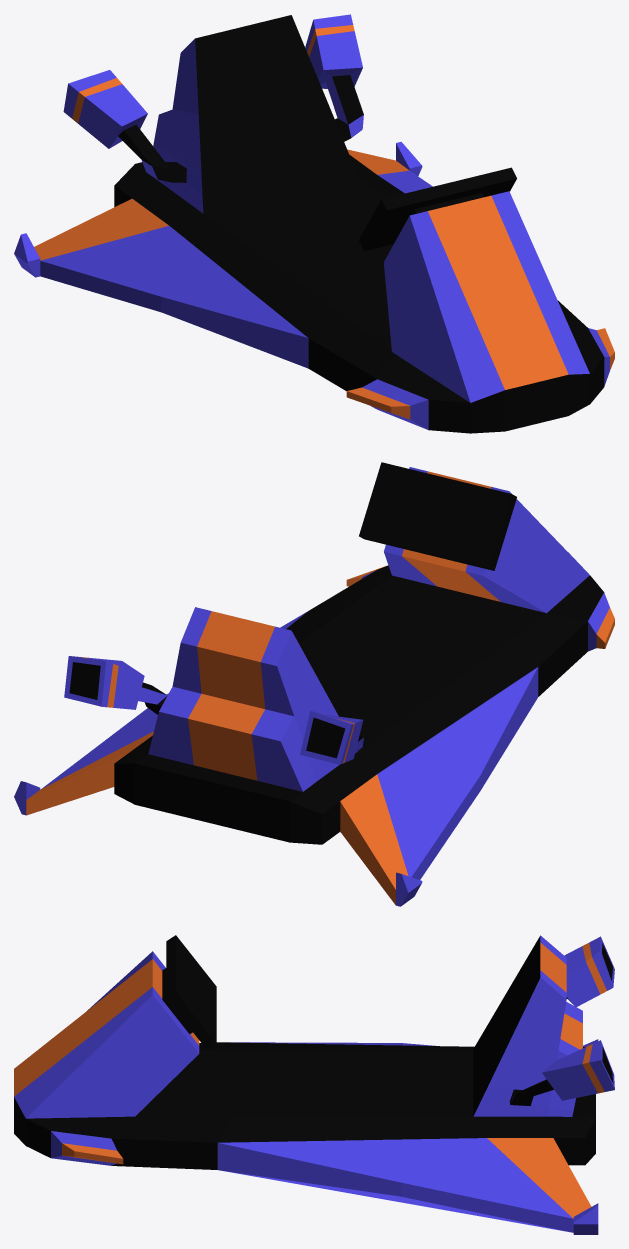
File: Kart_Air.fbx
The picture shows the model from 3 angles, top to bottom: view 1: azimuth 30°, elevation 25°; view 2: azimuth 150°, elevation 25°; view 3: azimuth 270°, elevation 25°; orthographic projection. The views are drawn at different scales.
Visible parts, largest first — view 1: Kart_Air; view 2: Kart_Air; view 3: Kart_Air.
Boxes of the visible parts, x1,y1,x2,y2 form: Kart_Air: [14, 14, 614, 433]; Kart_Air: [14, 462, 614, 906]; Kart_Air: [14, 935, 614, 1234].
Size of the model in its own units: 99.23 by 146 by 52.45.
